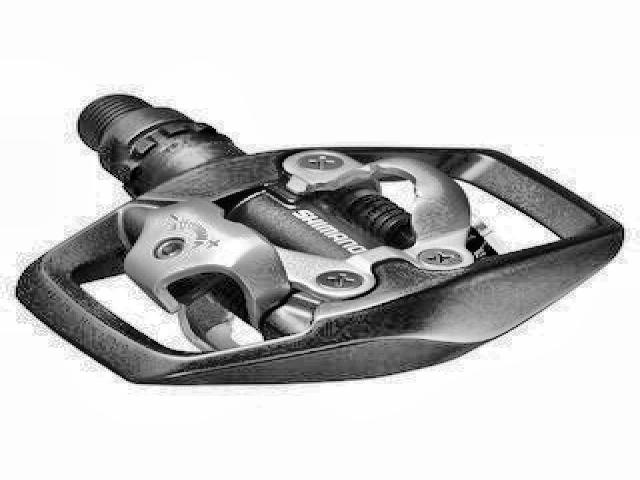pedal: (11, 90, 626, 391)
